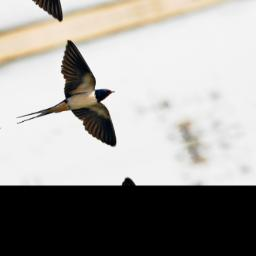Swallow: (0, 32, 137, 171)
